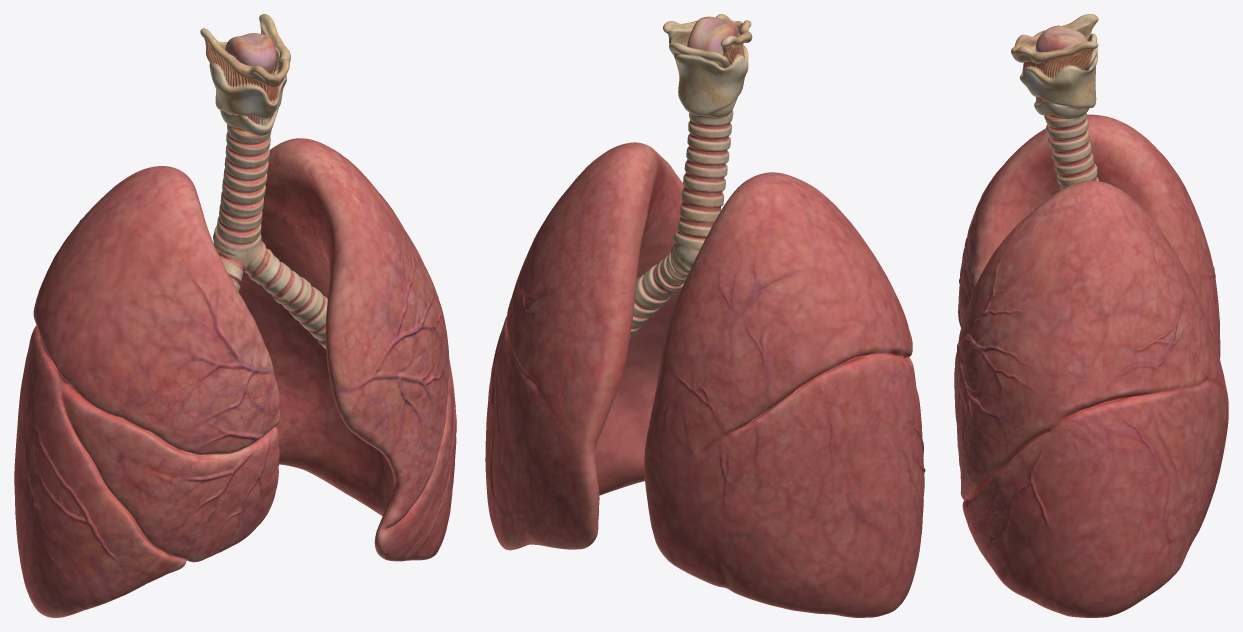
Rendered from human-lungs.glb.
3 renders of one model, left to right at view 1: azimuth 30°, elevation 25°; view 2: azimuth 150°, elevation 25°; view 3: azimuth 270°, elevation 25°, orthographic. The views are drawn at different scales.
Visible parts, largest first — view 1: human-lungs; view 2: human-lungs; view 3: human-lungs.
Part boxes in pixels (x1,y1,x2,y2): human-lungs: (14, 14, 456, 617); human-lungs: (485, 14, 925, 617); human-lungs: (954, 14, 1228, 617).
Bounding box in the file's own units: 0.235 × 0.3 × 0.1468.
Materials: 1 (1 with a texture image).
